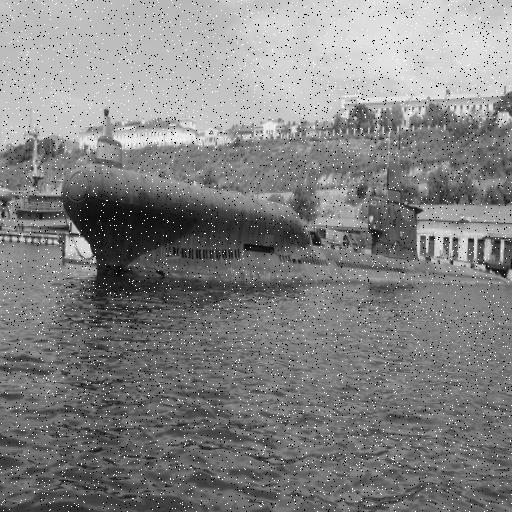submarine: (59, 136, 502, 290)
